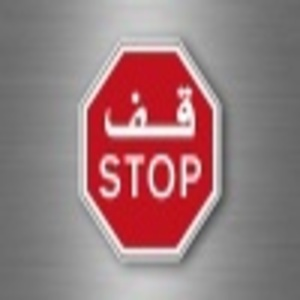stop: (80, 35, 222, 265)
